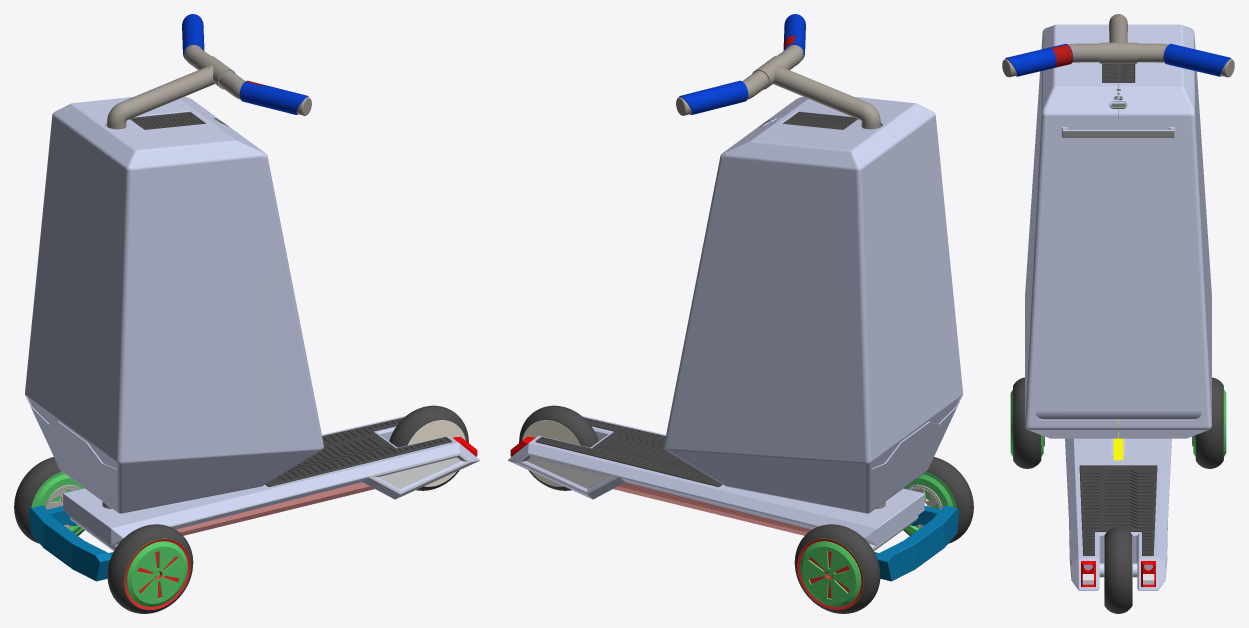
The model's file is mobility.glb.
The picture shows the model from 3 angles, left to right: view 1: azimuth 30°, elevation 25°; view 2: azimuth 150°, elevation 25°; view 3: azimuth 270°, elevation 25°; orthographic projection. The views are drawn at different scales.
Visible parts, largest first — view 1: Storage compartment 3, Storage compartment 2, Deck, Part8^scooter assem-1, scooter front wheel-2, Steering mechanism, Front tire, Rear wheel, Part16^scooter assem-1, Part19^scooter assem-1, scooter front tire-2, Part17^scooter assem-1 (+3 smaller); view 2: Storage compartment 2, Storage compartment 3, Deck, Part8^scooter assem-1, Front wheel, Steering mechanism, scooter front tire-2, Rear wheel, Part16^scooter assem-1, Part19^scooter assem-1, Front tire, Part17^scooter assem-1 (+3 smaller); view 3: Part13^scooter assem-1, Storage compartment 3, Storage compartment 2, Deck, Part8^scooter assem-1, Rear wheel, Part17^scooter assem-1, Front tire, scooter front tire-2, Secondary grip, Handlebar grip, Part20^scooter assem-1 (+3 smaller).
Boxes of the visible parts, x1,y1,x2,y2 form: Storage compartment 3: [71, 116, 323, 513]; Storage compartment 2: [25, 96, 223, 490]; Deck: [63, 416, 479, 545]; Part8^scooter assem-1: [265, 417, 452, 486]; scooter front wheel-2: [124, 538, 190, 609]; Steering mechanism: [28, 505, 113, 581]; Front tire: [107, 524, 193, 613]; Rear wheel: [389, 405, 468, 490]; Part16^scooter assem-1: [102, 65, 214, 508]; Part19^scooter assem-1: [176, 482, 374, 535]; scooter front tire-2: [14, 457, 84, 543]; Part17^scooter assem-1: [184, 45, 311, 115]; Storage compartment 2: [664, 116, 916, 513]; Storage compartment 3: [764, 96, 962, 491]; Deck: [508, 416, 924, 545]; Part8^scooter assem-1: [535, 417, 722, 486]; Front wheel: [797, 538, 863, 609]; Steering mechanism: [874, 505, 959, 581]; scooter front tire-2: [794, 524, 880, 613]; Rear wheel: [519, 405, 598, 490]; Part16^scooter assem-1: [773, 65, 885, 508]; Part19^scooter assem-1: [613, 482, 811, 535]; Front tire: [903, 457, 973, 543]; Part17^scooter assem-1: [676, 45, 803, 115]; Part13^scooter assem-1: [1035, 122, 1201, 419]; Storage compartment 3: [1025, 24, 1118, 438]; Storage compartment 2: [1118, 24, 1211, 438]; Deck: [1065, 438, 1171, 590]; Part8^scooter assem-1: [1079, 465, 1157, 555]; Rear wheel: [1104, 527, 1132, 613]; Part17^scooter assem-1: [1002, 42, 1234, 77]; Front tire: [1013, 377, 1040, 468]; scooter front tire-2: [1196, 377, 1223, 468]; Secondary grip: [1163, 43, 1231, 76]; Handlebar grip: [1005, 43, 1073, 76]; Part20^scooter assem-1: [1081, 561, 1155, 586].
Size of the model in its own units: 1.25 by 1.42 by 0.6309.
